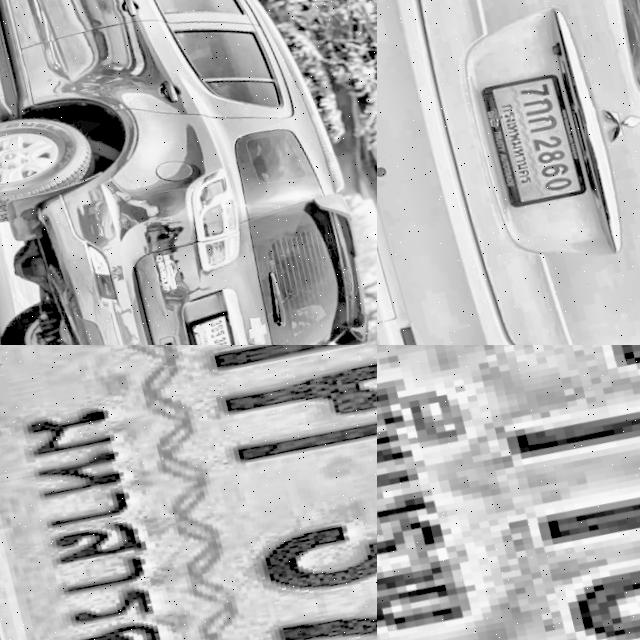license-plate: (0, 345, 377, 640), (377, 345, 640, 640), (478, 68, 589, 208), (183, 306, 236, 345)
